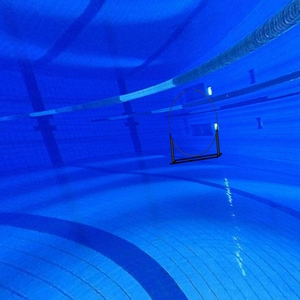circle: (165, 87, 225, 169)
